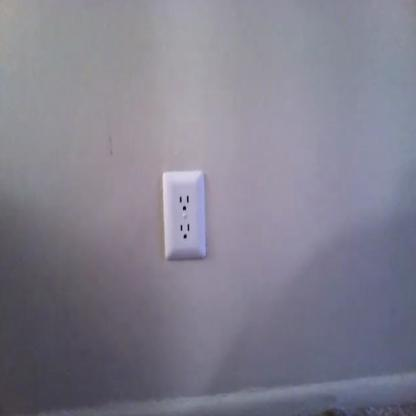OUTLET: (162, 171, 206, 256)
